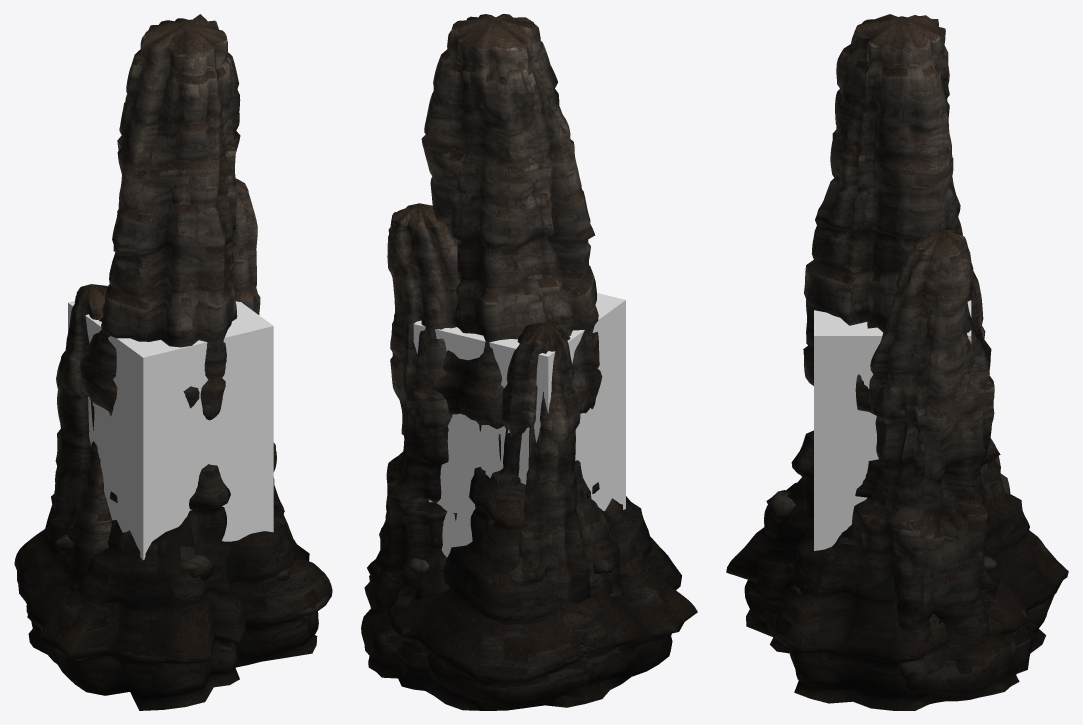
Rendered from rock_spire_bare_16m_dead.glb.
3 views of the same model, side by side, from view 1: azimuth 30°, elevation 25°; view 2: azimuth 150°, elevation 25°; view 3: azimuth 270°, elevation 25° (orthographic). The views are drawn at different scales.
Parts seen in each view (by area): view 1: rock_spire_bare_16m, col_block_spire; view 2: rock_spire_bare_16m, col_block_spire; view 3: rock_spire_bare_16m, col_block_spire.
Part boxes in pixels (x1,y1,x2,y2): rock_spire_bare_16m: (14, 14, 332, 710); col_block_spire: (68, 301, 273, 560); rock_spire_bare_16m: (361, 14, 697, 710); col_block_spire: (413, 293, 625, 557); rock_spire_bare_16m: (726, 14, 1068, 710); col_block_spire: (814, 300, 971, 550).
Size of the model in its own units: 10.78 by 22.35 by 10.9.
2 materials, 2 textured.
